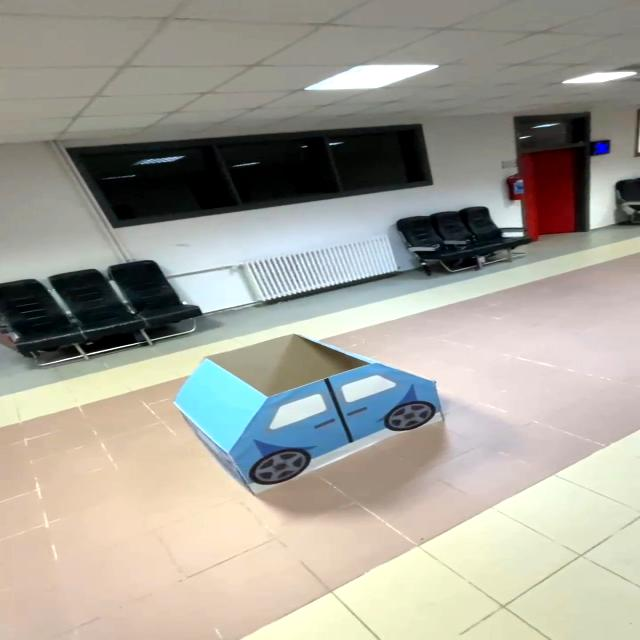blue_car: (137, 319, 465, 517)
